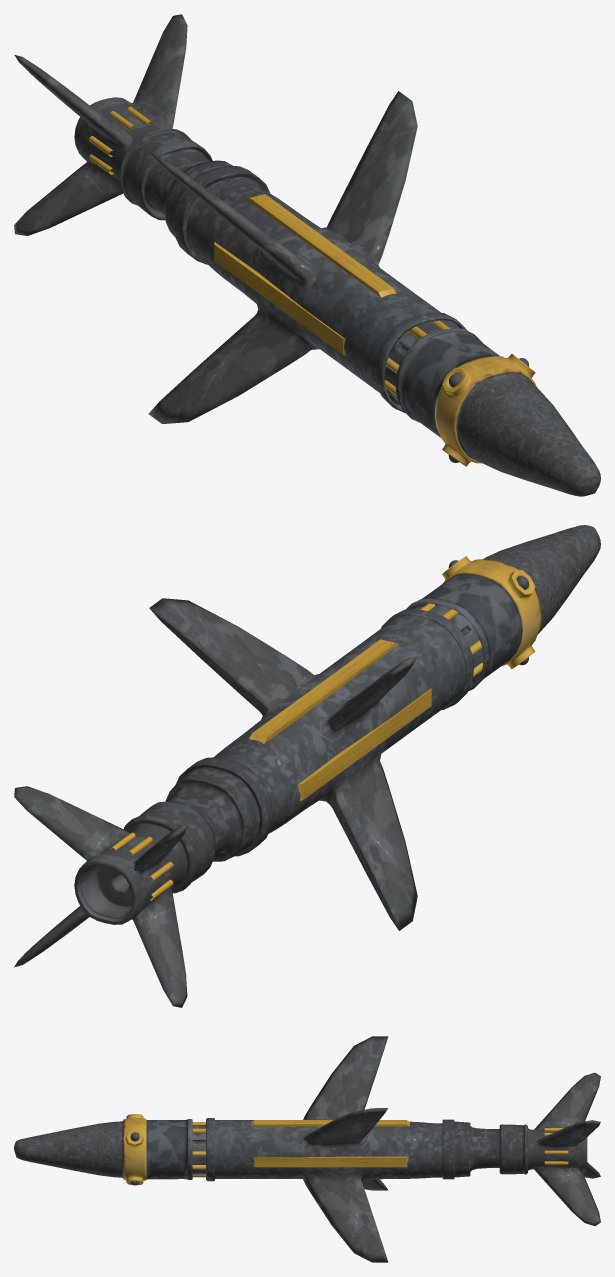
File: missile.obj
The picture shows the model from 3 angles, top to bottom: view 1: azimuth 30°, elevation 25°; view 2: azimuth 150°, elevation 25°; view 3: azimuth 270°, elevation 25°; orthographic projection. The views are drawn at different scales.
Parts seen in each view (by area): view 1: Missile_Circle, Missile_side_Ext_Cube; view 2: Missile_Circle, Missile_side_Ext_Cube; view 3: Missile_Circle, Missile_side_Ext_Cube.
Part boxes in pixels (x1,y1,x2,y2): Missile_Circle: [14, 14, 600, 496]; Missile_side_Ext_Cube: [214, 194, 396, 355]; Missile_Circle: [14, 525, 600, 1007]; Missile_side_Ext_Cube: [249, 639, 431, 800]; Missile_Circle: [14, 1036, 600, 1262]; Missile_side_Ext_Cube: [251, 1120, 410, 1167].
Bounding box in the file's own units: 2.83 × 2.82 × 9.71.
1 material, 1 textured.
